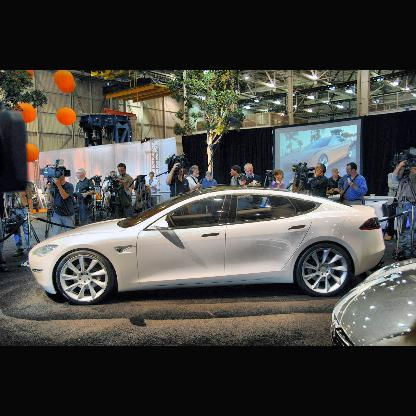Tesla Model S Sedan 2012: (30, 190, 387, 307)
